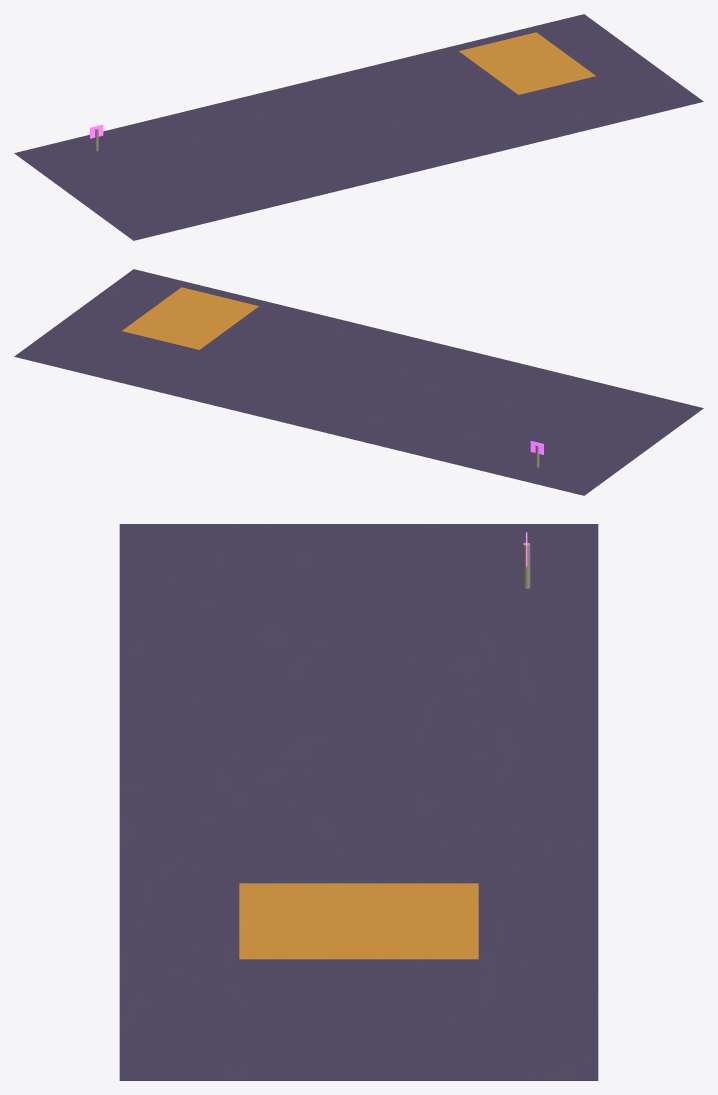
Rendered from echo-throne-steps.glb.
3 views of the same model, one above another, from view 1: azimuth 30°, elevation 25°; view 2: azimuth 150°, elevation 25°; view 3: azimuth 270°, elevation 25° (orthographic). The views are drawn at different scales.
Parts seen in each view (by area): view 1: throne-low-floor, throne-dais, throne-first-platform; view 2: throne-low-floor, throne-dais, throne-first-platform; view 3: throne-low-floor, throne-dais, throne-first-platform.
Boxes of the visible parts, x1,y1,x2,y2 form: throne-low-floor: [14, 14, 703, 240]; throne-dais: [459, 32, 595, 94]; throne-first-platform: [407, 62, 518, 118]; throne-low-floor: [14, 269, 703, 495]; throne-dais: [122, 287, 258, 349]; throne-first-platform: [199, 317, 310, 373]; throne-low-floor: [119, 524, 598, 1080]; throne-dais: [239, 883, 478, 959]; throne-first-platform: [239, 855, 478, 883].
Bounding box in the file's own units: 22 × 0.9 × 8.
4 materials, 4 textured.
